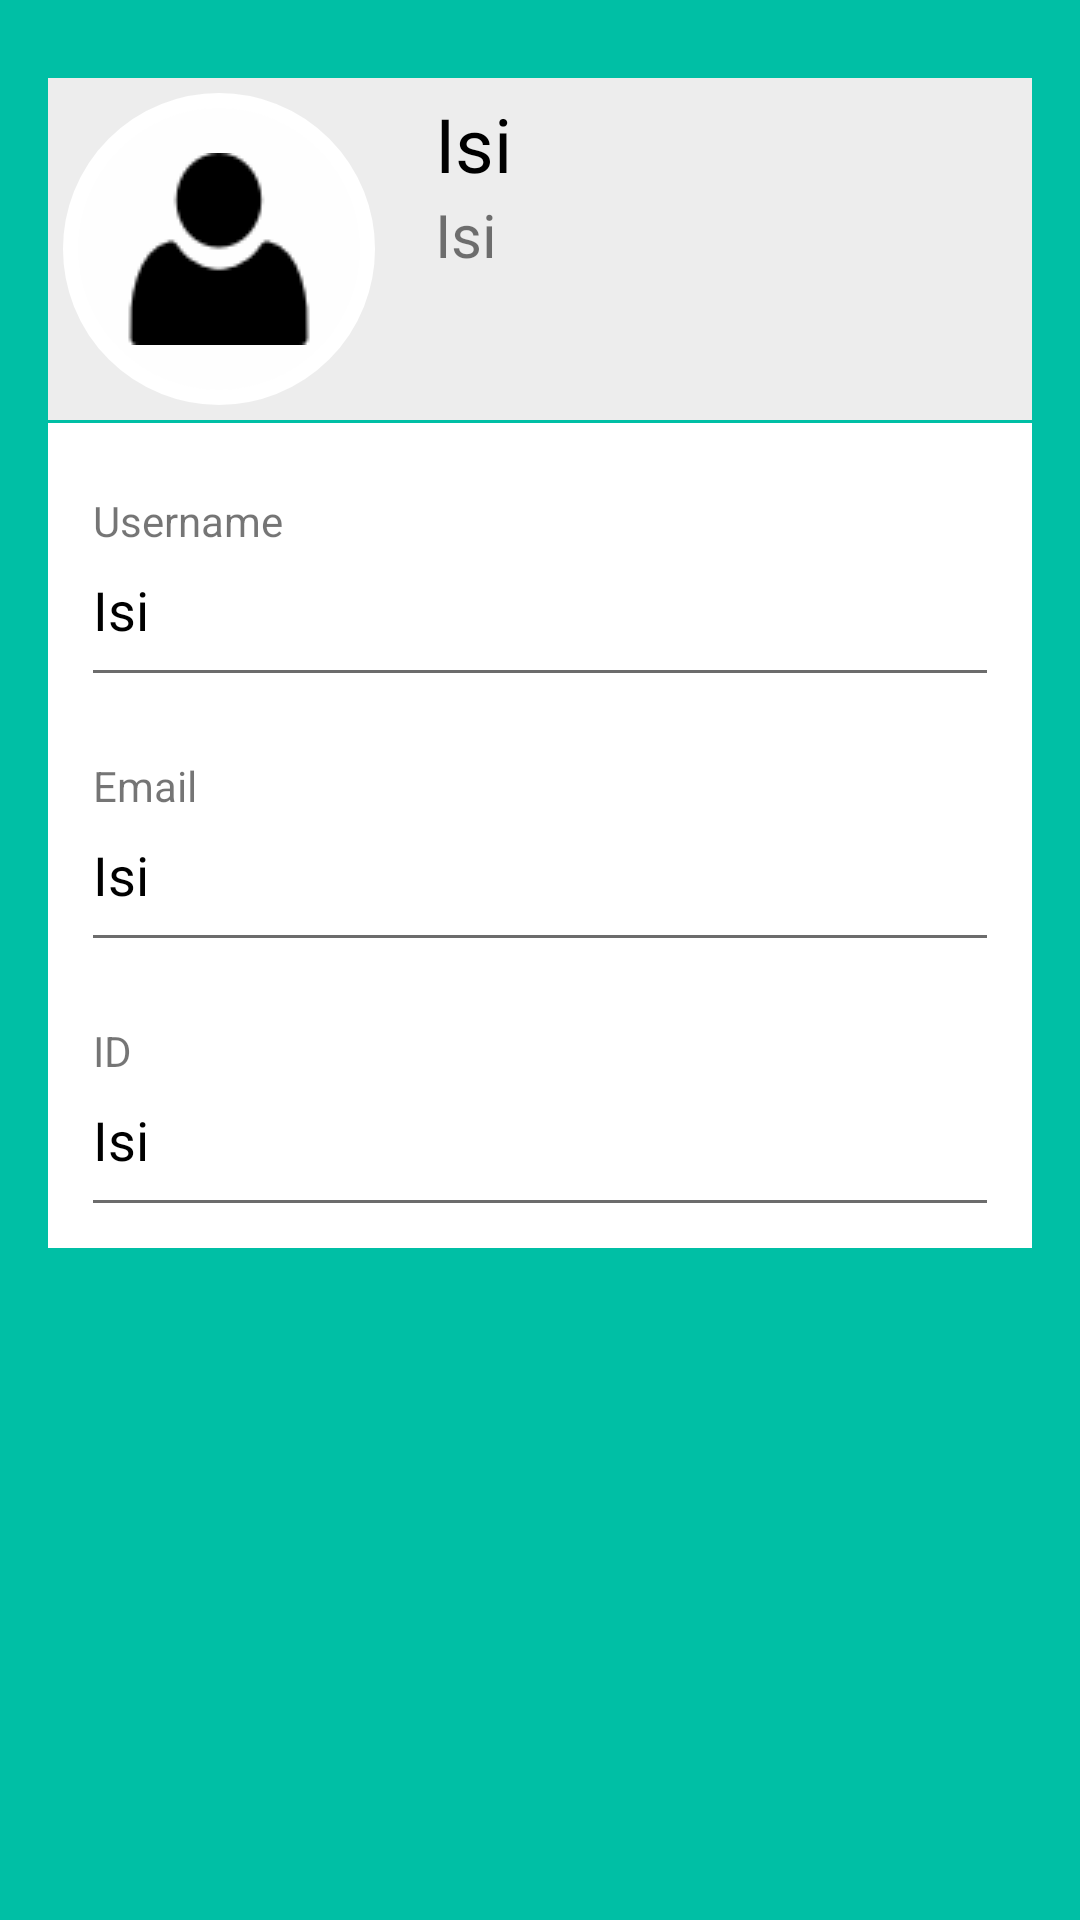

Where icons sit on this 1080 x 1920 app screen, as (x1, y1, x2, y2):
profil: (128, 153, 310, 345)
